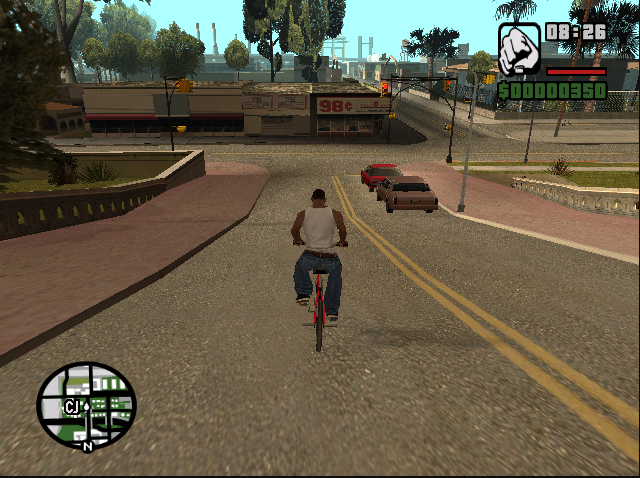bike: (290, 206, 351, 359)
car: (379, 173, 441, 216), (358, 158, 404, 193)
